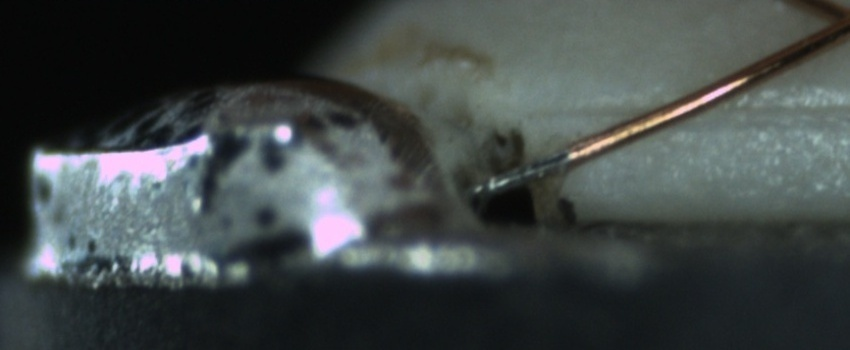CL: (808, 2, 850, 43)
DL: (543, 78, 848, 142)
TS: (469, 150, 568, 195)
TTCW: (466, 138, 597, 196)
